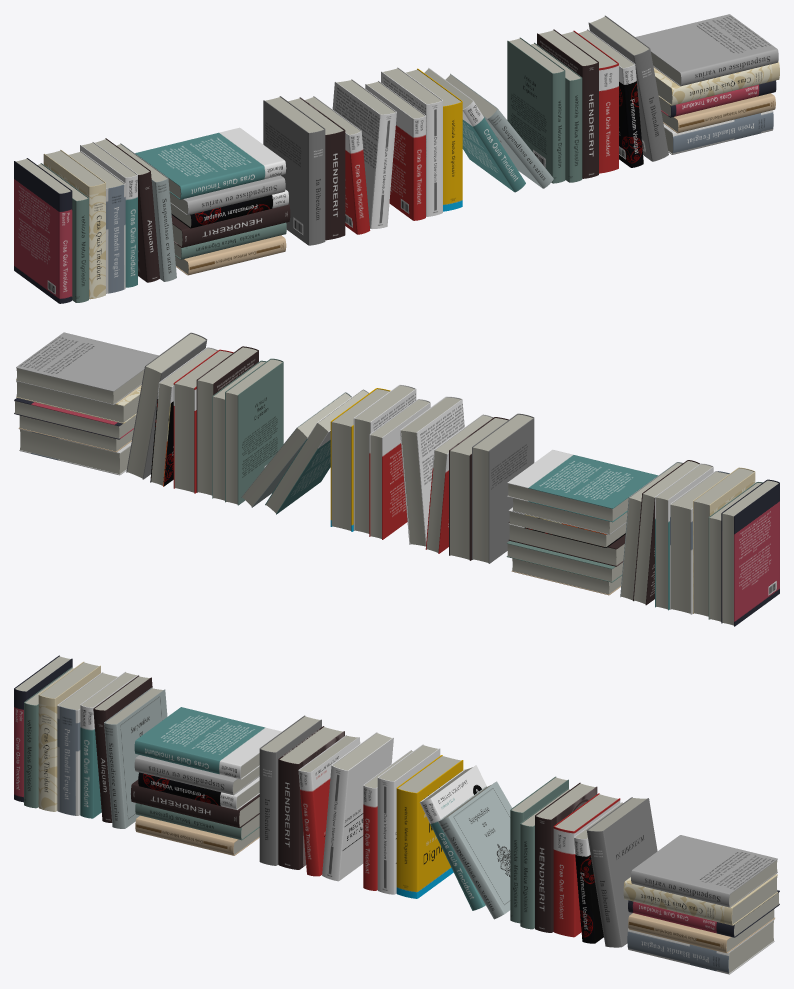
The model's file is libri-2.fbx.
The picture shows the model from 3 angles, top to bottom: view 1: azimuth 30°, elevation 25°; view 2: azimuth 150°, elevation 25°; view 3: azimuth 330°, elevation 25°; orthographic projection.
Parts seen in each view (by area): view 1: AM216_05_book_21_1, AM216_05_book_09_1, AM216_05_book_18_1, AM216_05_book_52_1, AM216_05_book_28_1, AM216_05_book_22_1, AM216_05_book_31_1, AM216_05_book_19_1, AM216_05_book_15_1, AM216_05_book_10_1, AM216_05_book_24_1, AM216_05_book_16_1 (+8 smaller); view 2: AM216_05_book_21_1, AM216_05_book_09_1, AM216_05_book_18_1, AM216_05_book_22_1, AM216_05_book_28_1, AM216_05_book_52_1, AM216_05_book_31_1, AM216_05_book_19_1, AM216_05_book_15_1, AM216_05_book_24_1, AM216_05_book_10_1, AM216_05_book_16_1 (+8 smaller); view 3: AM216_05_book_10_1, AM216_05_book_21_1, AM216_05_book_09_1, AM216_05_book_28_1, AM216_05_book_52_1, AM216_05_book_19_1, AM216_05_book_15_1, AM216_05_book_23_1, AM216_05_book_31_1, AM216_05_book_20_1, AM216_05_book_18_1, AM216_05_book_24_1 (+8 smaller).
Part boxes in pixels (box(x1,y1,x2,y2)): AM216_05_book_21_1: box(263, 15, 668, 245); AM216_05_book_09_1: box(135, 68, 525, 199); AM216_05_book_18_1: box(14, 80, 776, 303); AM216_05_book_52_1: box(169, 14, 778, 215); AM216_05_book_28_1: box(332, 67, 442, 228); AM216_05_book_22_1: box(174, 37, 565, 259); AM216_05_book_31_1: box(305, 81, 425, 234); AM216_05_book_19_1: box(43, 62, 779, 299); AM216_05_book_15_1: box(171, 29, 598, 247); AM216_05_book_10_1: box(116, 73, 553, 281); AM216_05_book_24_1: box(170, 29, 643, 228); AM216_05_book_16_1: box(37, 42, 582, 302); AM216_05_book_21_1: box(126, 332, 534, 563); AM216_05_book_09_1: box(265, 389, 657, 522); AM216_05_book_18_1: box(14, 398, 779, 626); AM216_05_book_22_1: box(225, 358, 623, 582); AM216_05_book_28_1: box(353, 384, 464, 546); AM216_05_book_52_1: box(16, 332, 627, 534); AM216_05_book_31_1: box(369, 399, 493, 553); AM216_05_book_19_1: box(16, 379, 755, 616); AM216_05_book_15_1: box(196, 346, 625, 566); AM216_05_book_24_1: box(150, 347, 626, 547); AM216_05_book_10_1: box(241, 392, 682, 601); AM216_05_book_16_1: box(212, 360, 762, 621); AM216_05_book_10_1: box(104, 687, 511, 919); AM216_05_book_21_1: box(259, 715, 657, 947); AM216_05_book_09_1: box(134, 707, 486, 910); AM216_05_book_28_1: box(322, 732, 440, 894); AM216_05_book_52_1: box(134, 755, 777, 907); AM216_05_book_19_1: box(38, 661, 777, 925); AM216_05_book_15_1: box(131, 779, 597, 932); AM216_05_book_23_1: box(396, 755, 463, 898); AM216_05_book_31_1: box(298, 735, 412, 890); AM216_05_book_20_1: box(135, 815, 774, 953); AM216_05_book_18_1: box(14, 655, 779, 937); AM216_05_book_24_1: box(138, 772, 622, 943).
Bounding box in the file's own units: 139 × 21.1 × 16.67.
